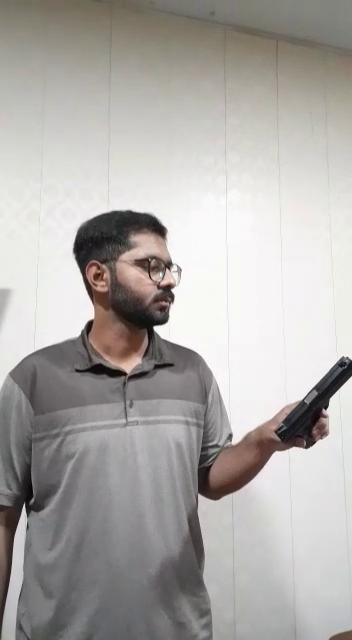criminal: (0, 207, 352, 640)
weapon: (271, 355, 352, 454)
